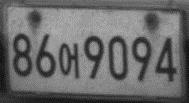0: (106, 35, 128, 80)
4: (152, 36, 178, 83)
6: (34, 33, 57, 78)
8: (11, 32, 33, 78)
9: (131, 35, 152, 83), (83, 35, 104, 79)
어: (58, 42, 80, 79)
